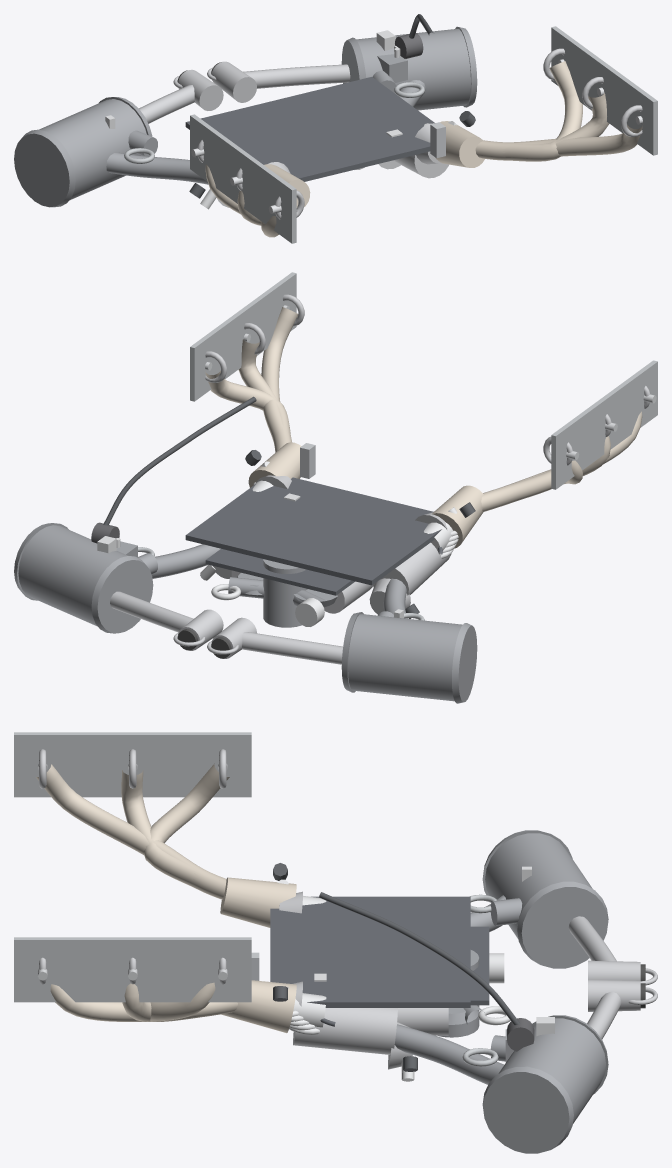
File: exhaust.glb
3 renders of one model, top to bottom at view 1: azimuth 30°, elevation 25°; view 2: azimuth 150°, elevation 25°; view 3: azimuth 270°, elevation 25°, orthographic. The views are drawn at different scales.
Visible parts, largest first — view 1: heatShield_underbody, manifoldGasket_L, mufflerBody_L, mufflerBody_R, manifoldGasket_R, mufflerEndOut_L, primaryRunner_R_0, primaryRunner_R_2, tipPipe_R_0, connectingPipe_L, headerCollector_R, primaryRunner_R_1 (+13 smaller); view 2: heatShield_underbody, mufflerBody_L, mufflerBody_R, manifoldGasket_L, manifoldGasket_R, mufflerEndIn_R, heatShield_midPipe, primaryRunner_R_2, tipPipe_L_0, resonatorBody, mufflerEndOut_L, primaryRunner_L_2 (+14 smaller); view 3: heatShield_underbody, manifoldGasket_R, manifoldGasket_L, mufflerEndOut_R, mufflerEndIn_L, mufflerBody_R, mufflerBody_L, catBody_R, primaryRunner_L_2, primaryRunner_L_0, headerCollector_L, connectingPipe_R (+16 smaller).
Boxes of the visible parts, left/top/right/bottom form: heatShield_underbody: left=185, top=77, right=434, bottom=181; manifoldGasket_L: left=190, top=114, right=296, bottom=243; mufflerBody_L: left=39, top=99, right=146, bottom=200; mufflerBody_R: left=356, top=29, right=470, bottom=110; manifoldGasket_R: left=551, top=26, right=657, bottom=155; mufflerEndOut_L: left=14, top=129, right=75, bottom=207; primaryRunner_R_0: left=476, top=61, right=582, bottom=161; primaryRunner_R_2: left=475, top=124, right=642, bottom=159; tipPipe_R_0: left=243, top=64, right=350, bottom=88; connectingPipe_L: left=106, top=152, right=208, bottom=184; headerCollector_R: left=435, top=121, right=484, bottom=167; primaryRunner_R_1: left=476, top=93, right=609, bottom=160; heatShield_underbody: left=185, top=477, right=441, bottom=585; mufflerBody_L: left=348, top=614, right=462, bottom=701; mufflerBody_R: left=18, top=525, right=128, bottom=626; manifoldGasket_L: left=551, top=360, right=657, bottom=489; manifoldGasket_R: left=190, top=272, right=296, bottom=401; mufflerEndIn_R: left=91, top=556, right=153, bottom=633; heatShield_midPipe: left=205, top=548, right=354, bottom=595; primaryRunner_R_2: left=261, top=307, right=298, bottom=451; tipPipe_L_0: left=242, top=632, right=342, bottom=664; resonatorBody: left=263, top=559, right=307, bottom=627; mufflerEndOut_L: left=452, top=623, right=477, bottom=703; primaryRunner_L_2: left=481, top=411, right=642, bottom=511; heatShield_underbody: left=270, top=896, right=470, bottom=1007; manifoldGasket_R: left=14, top=937, right=251, bottom=1002; manifoldGasket_L: left=14, top=732, right=251, bottom=797; mufflerEndOut_R: left=482, top=1066, right=573, bottom=1153; mufflerEndIn_L: left=517, top=881, right=608, bottom=968; mufflerBody_R: left=498, top=1018, right=605, bottom=1124; mufflerBody_L: left=485, top=833, right=592, bottom=939; catBody_R: left=293, top=1008, right=397, bottom=1054; primaryRunner_L_2: left=36, top=764, right=226, bottom=899; primaryRunner_L_0: left=144, top=763, right=229, bottom=898; headerCollector_L: left=220, top=877, right=296, bottom=927; connectingPipe_R: left=394, top=1024, right=504, bottom=1084.
Bounding box in the file's own units: 4.78 × 1.76 × 5.15.
